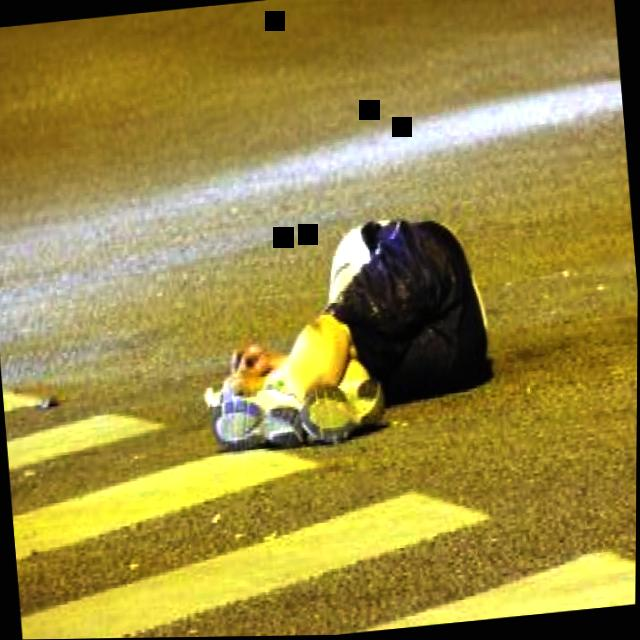Fall-Detected: (179, 176, 499, 455)
